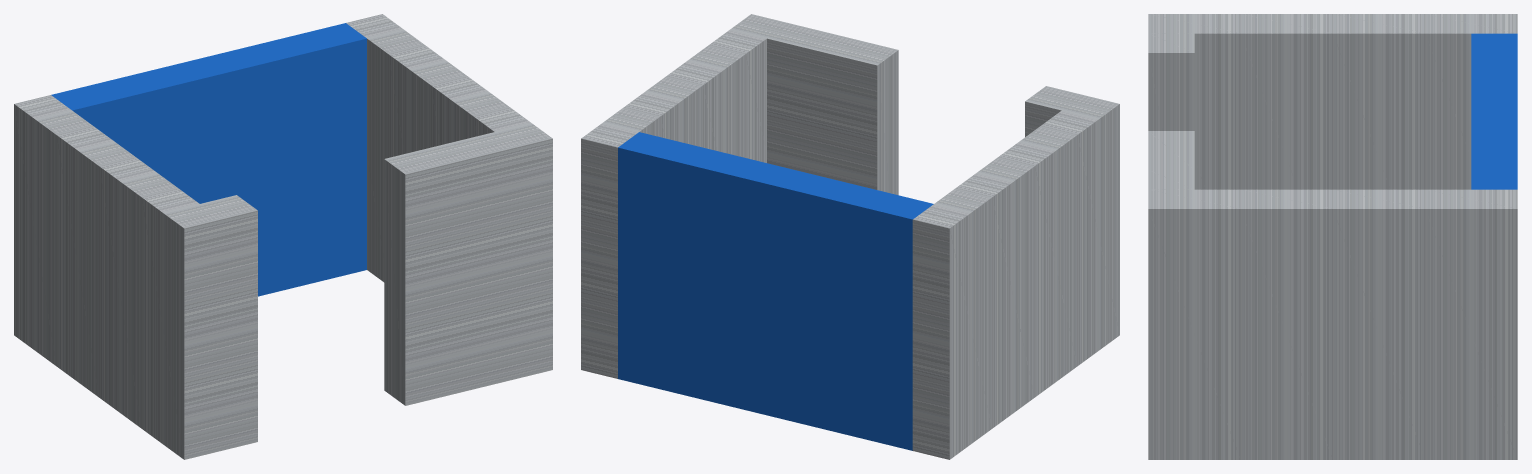
File: retail-room.glb
3 renders of one model, left to right at view 1: azimuth 30°, elevation 25°; view 2: azimuth 150°, elevation 25°; view 3: azimuth 270°, elevation 25°, orthographic. The views are drawn at different scales.
Visible parts, largest first — view 1: wall-south-02, wall-west-01, wall-north-04, wall-west-03, wall-west-02, wall-west-04, wall-north-03, wall-east-01, wall-south-03, wall-north-05, wall-south-01, wall-north-02 (+4 smaller); view 2: wall-west-04, wall-north-03, wall-north-04, wall-north-02, wall-south-02, wall-west-02, wall-west-03, wall-west-01, wall-east-04, wall-north-05, wall-north-01, wall-south-03 (+4 smaller); view 3: wall-east-01, wall-east-04, wall-east-02, wall-east-03, wall-west-02, wall-west-03, wall-west-01, wall-west-04, wall-south-01, wall-north-02, wall-north-03, wall-south-02 (+4 smaller).
Part boxes in pixels (x1,y1,x2,y2): wall-south-02: (384,141,479,405); wall-west-01: (141,188,221,459); wall-north-04: (235,32,330,296); wall-west-03: (56,126,135,397); wall-west-02: (99,157,178,428); wall-west-04: (14,95,92,366); wall-north-03: (162,50,256,209); wall-east-01: (473,107,552,378); wall-south-03: (458,132,515,387); wall-north-05: (309,23,366,278); wall-south-01: (200,195,257,450); wall-north-02: (88,68,182,190); wall-west-04: (912,188,992,459); wall-north-03: (728,159,822,423); wall-north-04: (654,141,749,405); wall-north-02: (802,177,896,441); wall-south-02: (803,32,898,195); wall-west-02: (998,126,1077,397); wall-west-03: (955,157,1034,428); wall-west-01: (1041,95,1119,366); wall-east-04: (581,107,660,378); wall-north-05: (618,132,675,387); wall-north-01: (876,195,933,450); wall-south-03: (767,23,824,171); wall-east-01: (1148,189,1240,459); wall-east-04: (1425,189,1517,459); wall-east-02: (1240,189,1332,459); wall-east-03: (1333,189,1425,459); wall-west-02: (1240,14,1332,189); wall-west-03: (1333,14,1425,189); wall-west-01: (1148,14,1240,189); wall-west-04: (1425,14,1517,189); wall-south-01: (1148,33,1194,130); wall-north-02: (1471,53,1517,91); wall-north-03: (1471,92,1517,130); wall-south-02: (1148,131,1194,169).
Bounding box in the file's own units: 5 × 3 × 4.
Materials: 2 (1 with a texture image).
